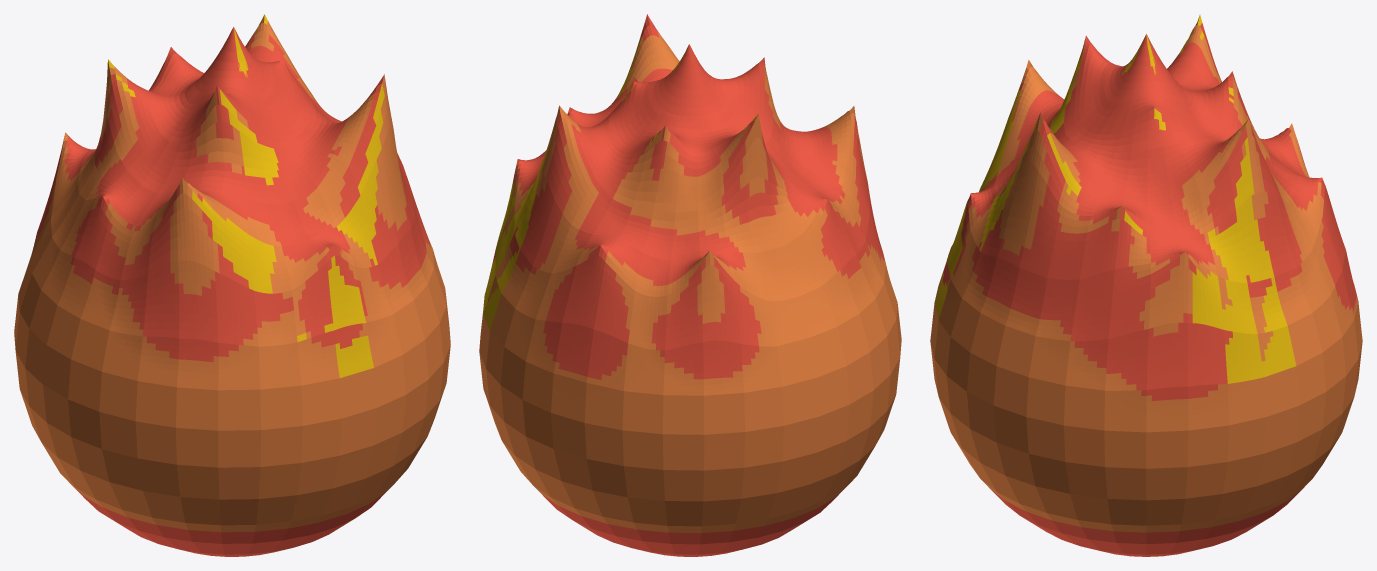
Rendered from MyHeadIsOnFire.fbx.
3 renders of one model, left to right at view 1: azimuth 30°, elevation 25°; view 2: azimuth 150°, elevation 25°; view 3: azimuth 270°, elevation 25°, orthographic. The views are drawn at different scales.
Parts seen in each view (by area): view 1: Sphere; view 2: Sphere; view 3: Sphere.
Part boxes in pixels (x1,y1,x2,y2): Sphere: (14,14,450,556); Sphere: (479,14,901,556); Sphere: (930,14,1362,556).
Size of the model in its own units: 186 by 239 by 186.
